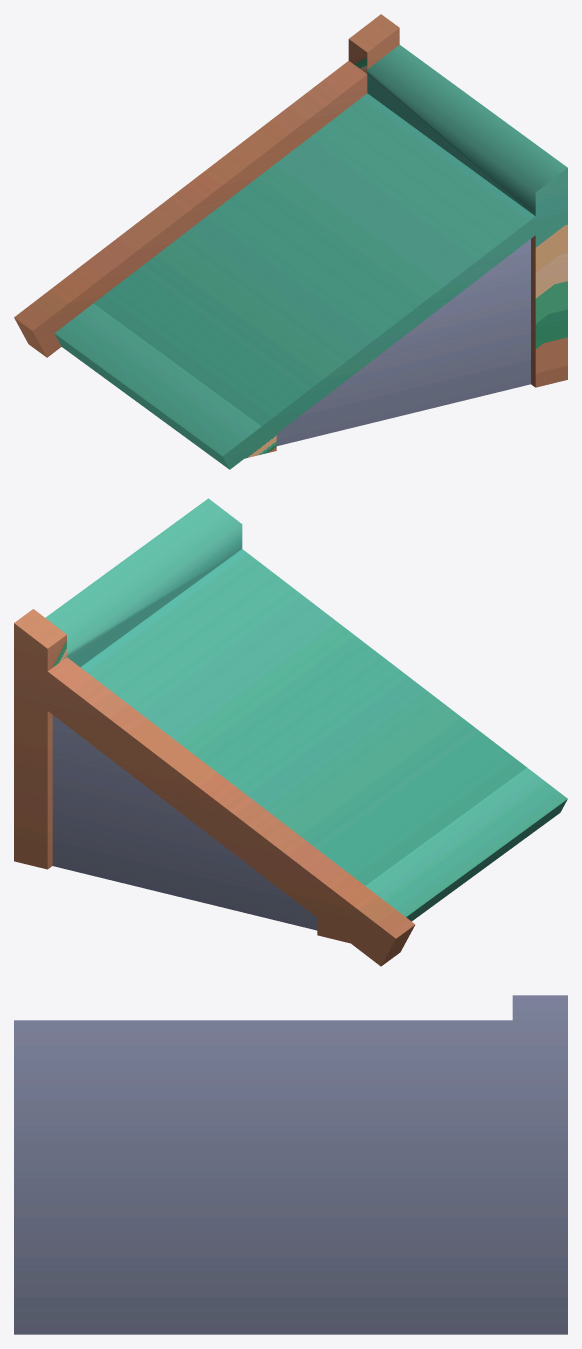
Rendered from roof-left.glb.
3 views of the same model, one above another, from view 1: azimuth 30°, elevation 25°; view 2: azimuth 150°, elevation 25°; view 3: azimuth 270°, elevation 25° (orthographic). The views are drawn at different scales.
Parts seen in each view (by area): view 1: roof-left; view 2: roof-left; view 3: roof-left.
Boxes of the visible parts, left/top/right/bottom form: roof-left: left=14, top=14, right=567, bottom=469; roof-left: left=14, top=498, right=567, bottom=966; roof-left: left=14, top=995, right=567, bottom=1334.
Size of the model in its own units: 1.13 by 0.7206 by 1.
Materials: 1 (1 with a texture image).
